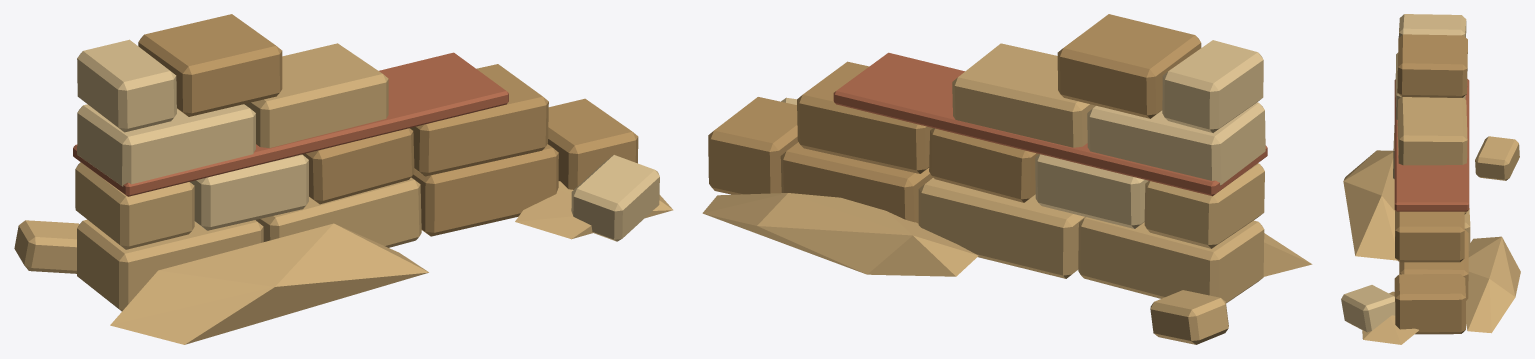
File: Desert_Ruin_Wall.fbx
3 views of the same model, side by side, from view 1: azimuth 30°, elevation 25°; view 2: azimuth 150°, elevation 25°; view 3: azimuth 270°, elevation 25° (orthographic). The views are drawn at different scales.
Parts seen in each view (by area): view 1: Stone3, Stone, Stone2, Sand, Band; view 2: Stone, Stone3, Stone2, Sand, Band; view 3: Stone3, Sand, Stone, Band, Stone2.
Boxes of the visible parts, left/top/right/bottom form: Stone3: left=138, top=14, right=638, bottom=236; Stone: left=14, top=43, right=421, bottom=311; Stone2: left=77, top=39, right=659, bottom=241; Sand: left=110, top=181, right=673, bottom=344; Band: left=73, top=52, right=508, bottom=196; Stone: left=918, top=43, right=1264, bottom=344; Stone3: left=708, top=14, right=1201, bottom=223; Stone2: left=781, top=40, right=1265, bottom=228; Sand: left=702, top=193, right=1312, bottom=276; Band: left=833, top=52, right=1267, bottom=196; Stone3: left=1394, top=34, right=1468, bottom=334; Sand: left=1343, top=150, right=1520, bottom=344; Stone: left=1397, top=97, right=1519, bottom=250; Band: left=1394, top=79, right=1469, bottom=211; Stone2: left=1341, top=14, right=1466, bottom=332.
Size of the model in its own units: 8.68 by 3.54 by 3.57.
